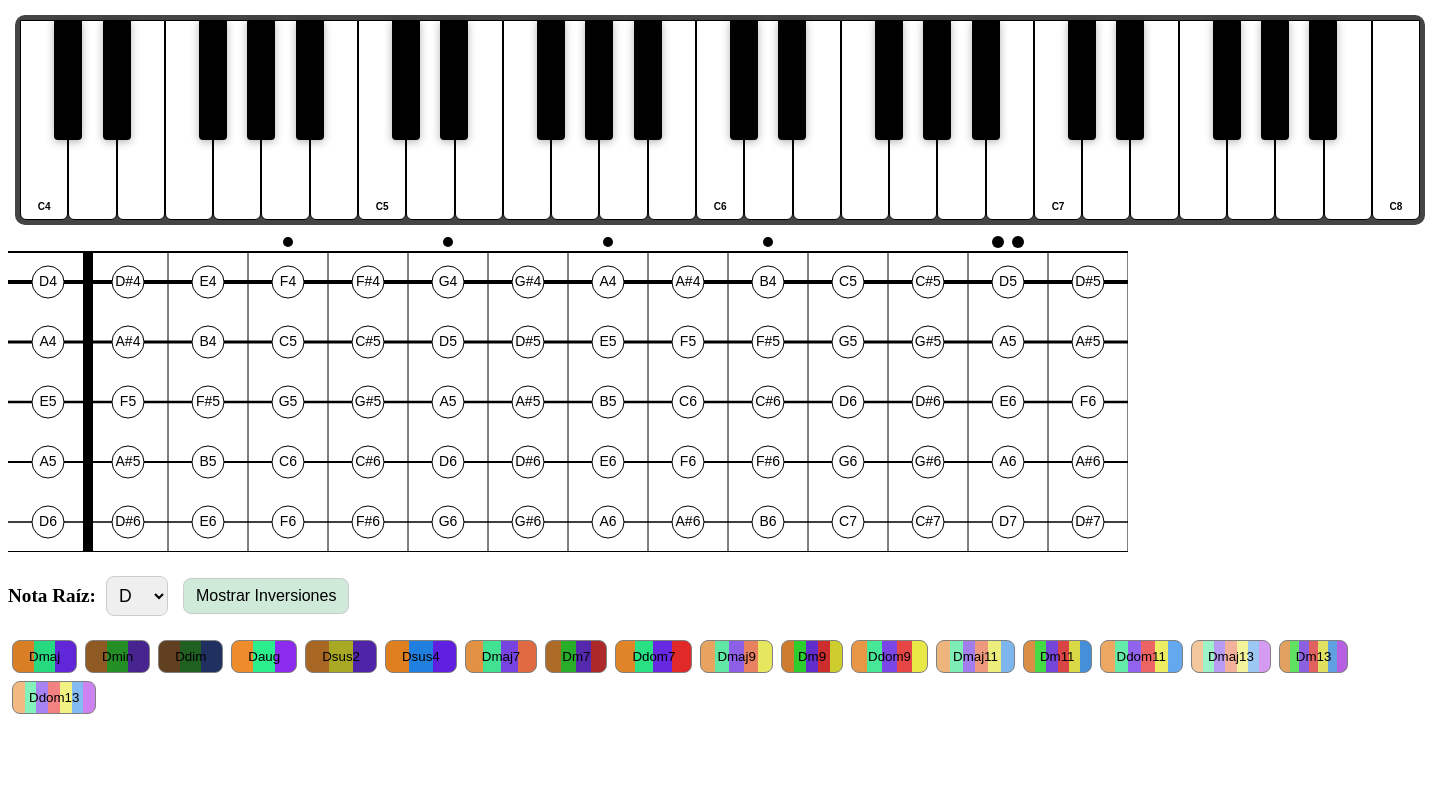
Scenario: App Integration Tests › Inversions Toggle Button › should toggle the visibility of chord inversions, starting with them hidden
Expected: the button "Dmaj (1ª)" is not shown
# Mostrar inversiones
Click the button "Mostrar Inversiones" at (266, 596), box [183,578,349,614]
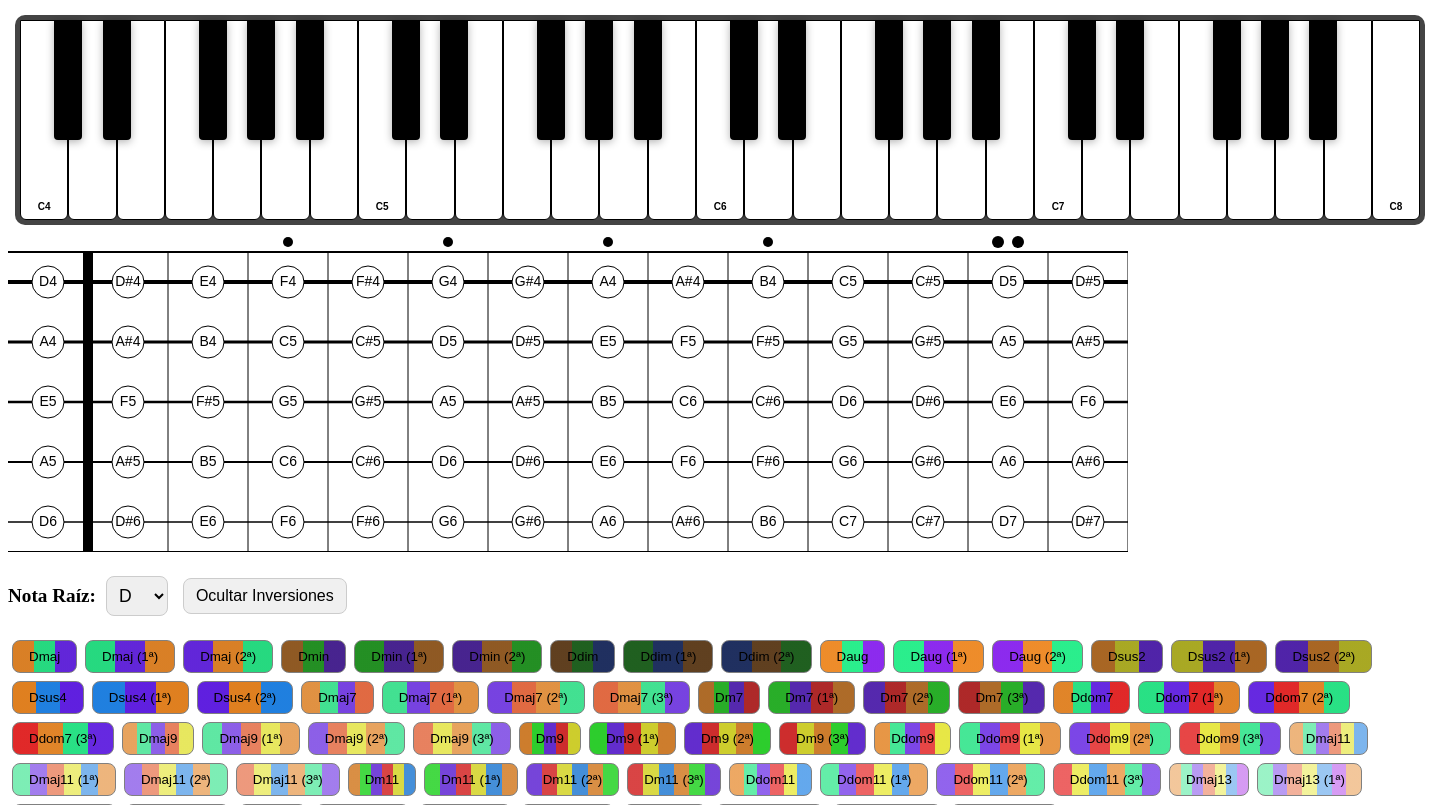
Expected: the button "Ocultar Inversiones" is shown
Expected: the button "Dmaj (1ª)" is shown, [85,640,175,673]
# Ocultar inversiones de nuevo
Click the button "Ocultar Inversiones" at (265, 596), box [183,578,347,614]
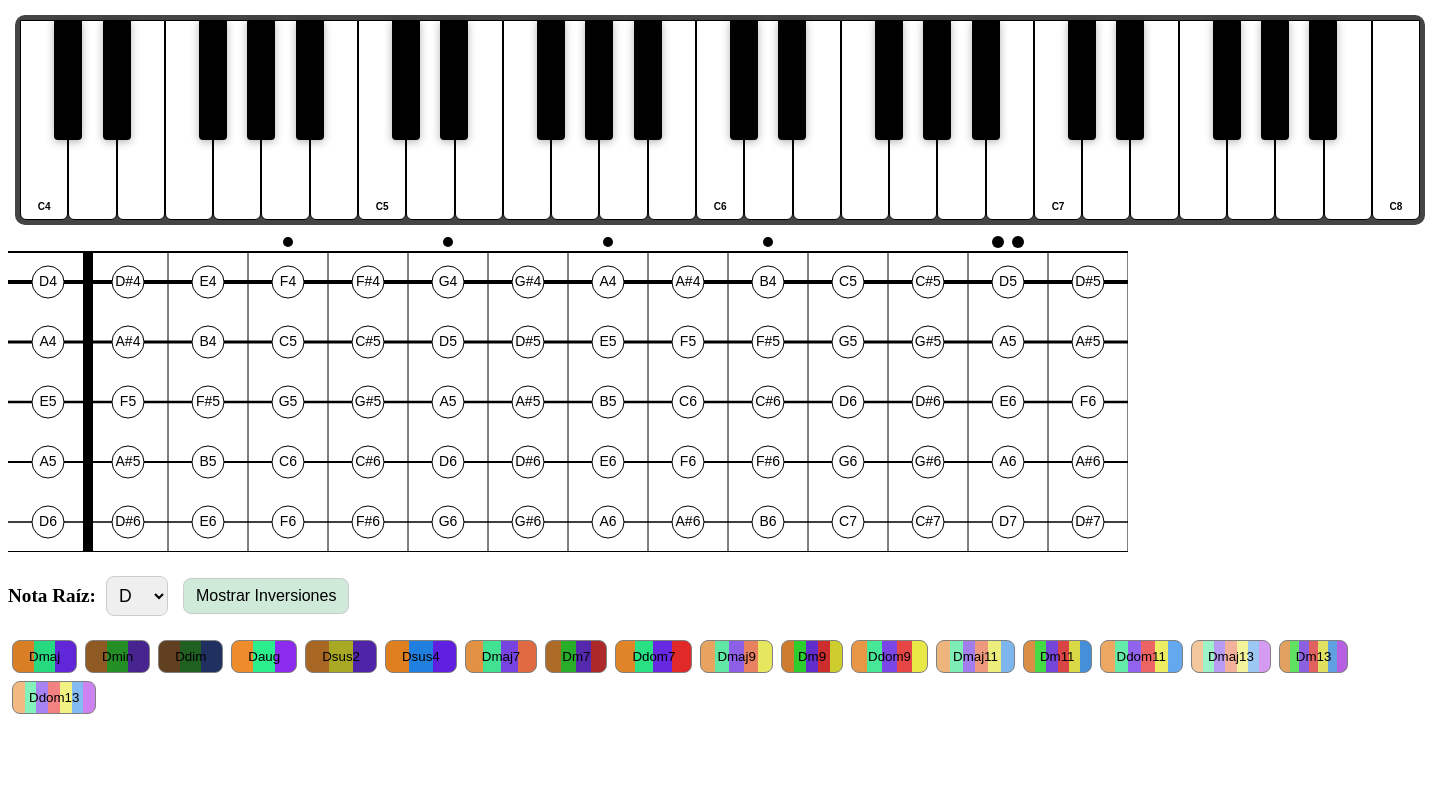
Expected: the button "Mostrar Inversiones" is shown, [183,578,349,614]
Expected: the button "Dmaj (1ª)" is gone
